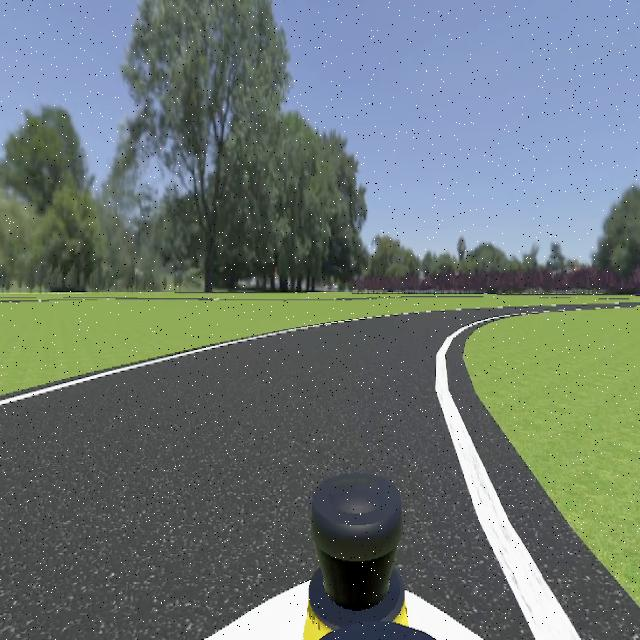road: (0, 314, 530, 640)
solid_line: (435, 319, 582, 640), (0, 324, 322, 409)
